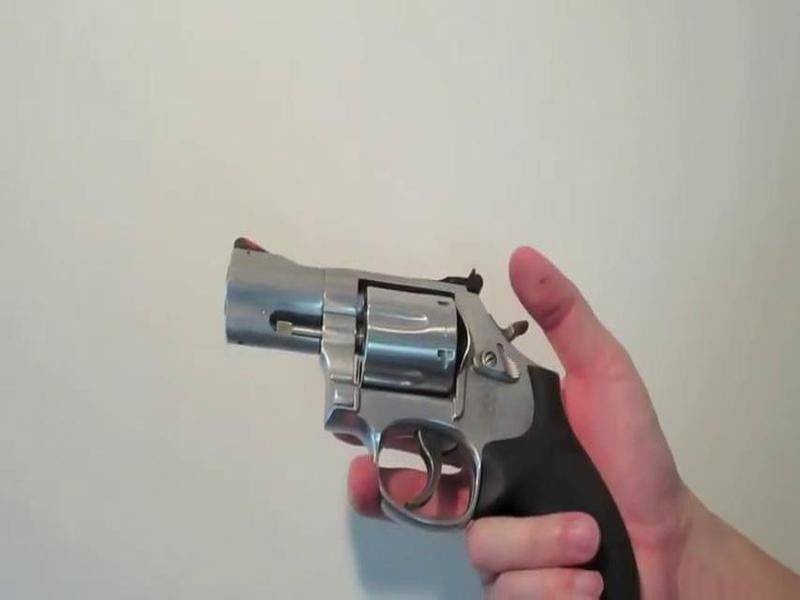Revolver: (195, 247, 606, 556)
